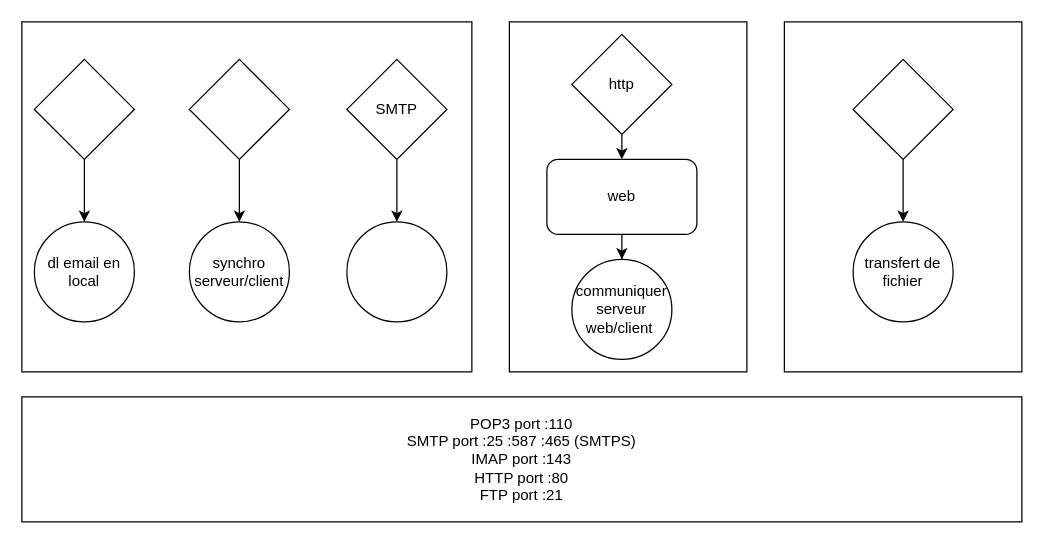
This 1044x544 diagram has some shape labels left out. The shapes that lost their labels are listed below. From the top down, each one's centre as x and y in pixels, then its label:
At (x=83, y=108): "POP3".
At (x=238, y=108): "IMAP".
At (x=902, y=108): "FTP".
At (x=396, y=271): "envoyer email".
